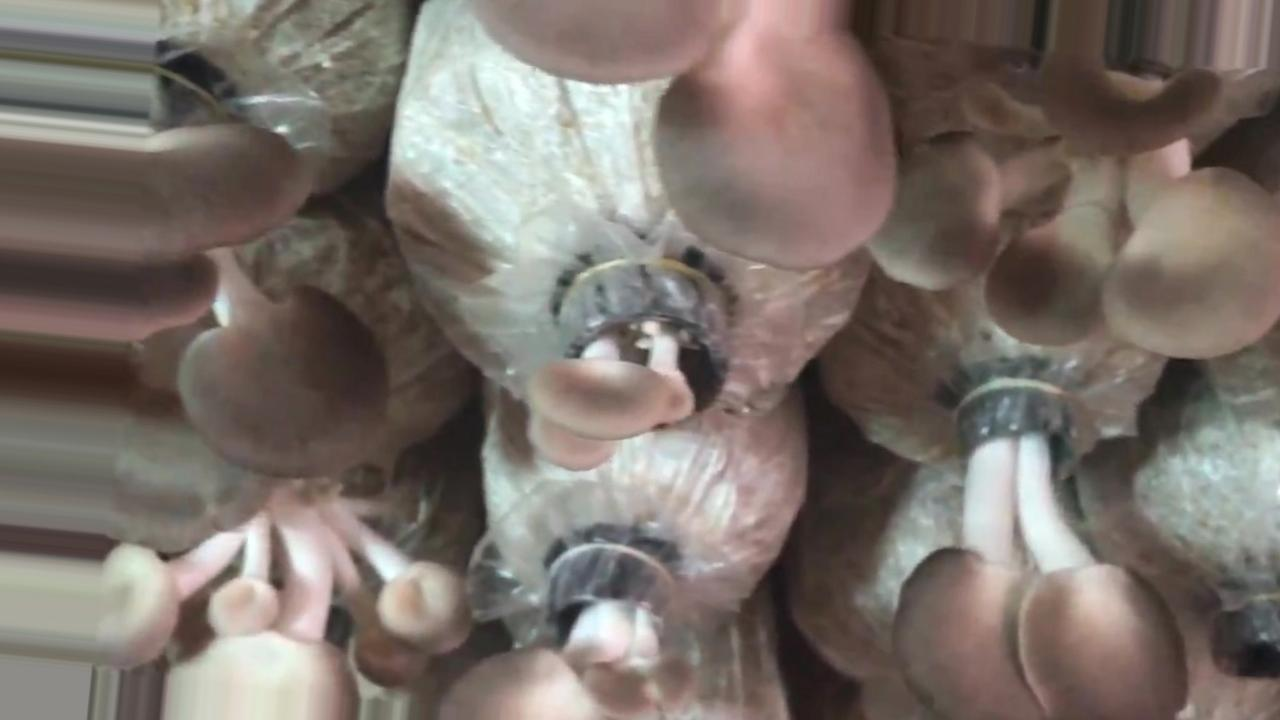nam: (1, 60, 386, 480), (868, 69, 1280, 364), (481, 1, 900, 271), (892, 385, 1189, 720), (97, 482, 473, 720), (527, 262, 734, 471), (447, 552, 696, 720)
